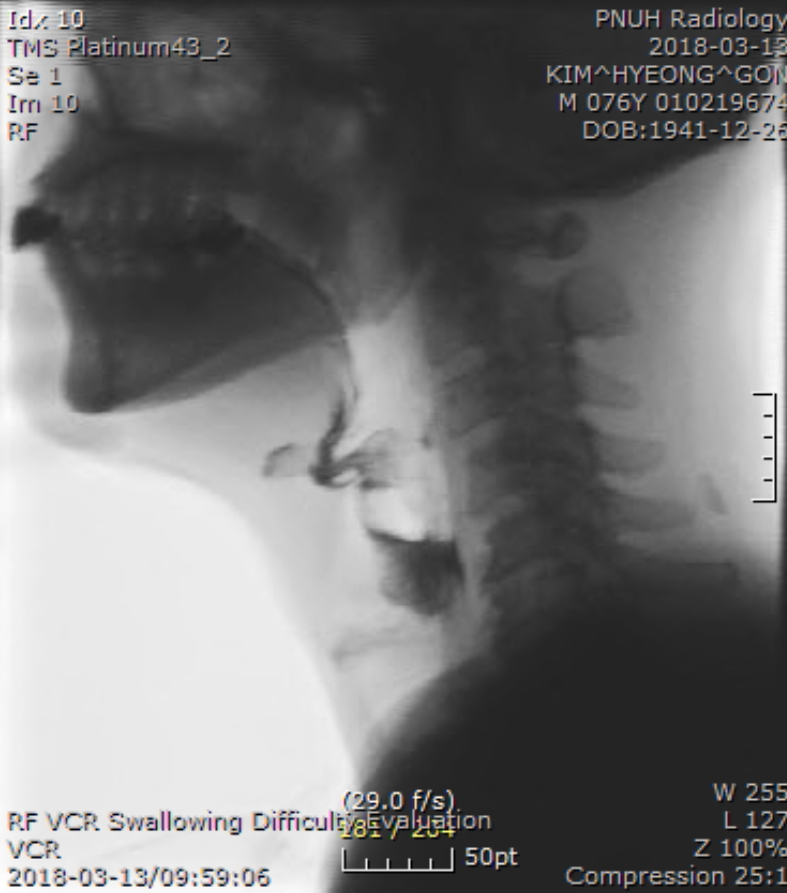food: (259, 360, 481, 642)
uros: (300, 403, 402, 503), (360, 522, 452, 612)
